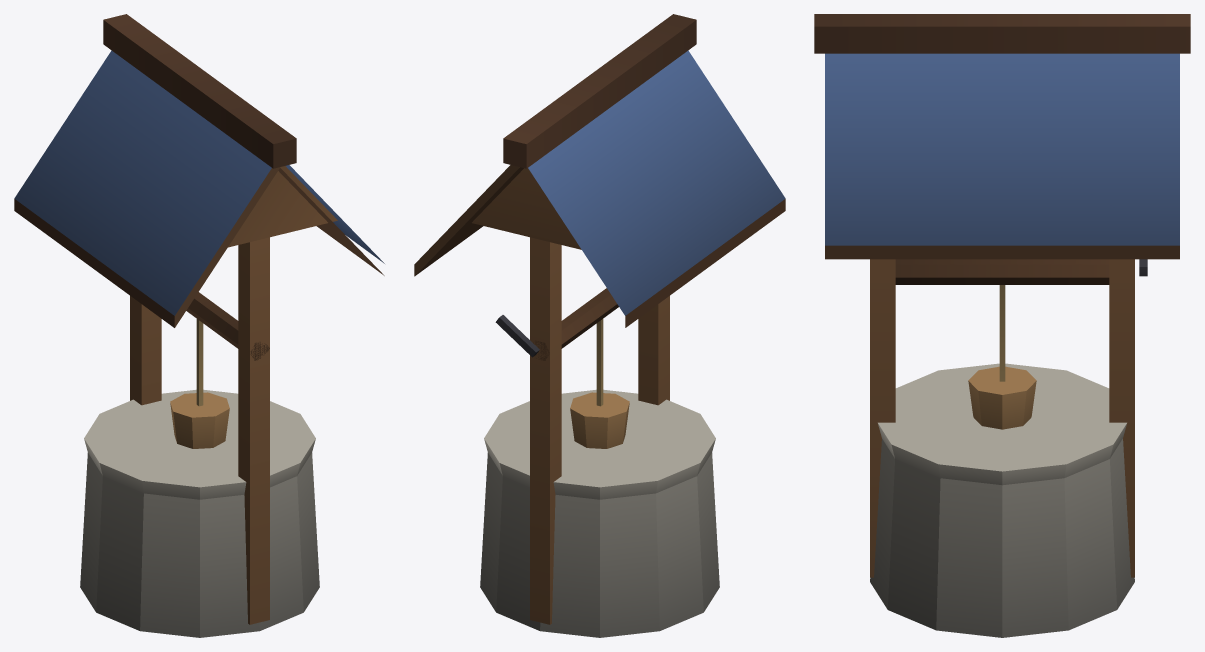
File: b_well.glb
The picture shows the model from 3 angles, left to right: view 1: azimuth 30°, elevation 25°; view 2: azimuth 150°, elevation 25°; view 3: azimuth 270°, elevation 25°; orthographic projection. The views are drawn at different scales.
Parts seen in each view (by area): view 1: stone, roof, wood, cloth; view 2: stone, wood, roof, cloth; view 3: roof, stone, wood, cloth.
Part boxes in pixels (left/top/right/bottom): stone: left=80, top=389, right=319, bottom=637; roof: left=14, top=50, right=384, bottom=315; wood: left=14, top=14, right=384, bottom=624; cloth: left=196, top=319, right=203, bottom=406; stone: left=480, top=389, right=719, bottom=637; wood: left=414, top=14, right=785, bottom=624; roof: left=528, top=50, right=785, bottom=315; cloth: left=596, top=319, right=603, bottom=406; roof: left=825, top=53, right=1179, bottom=245; stone: left=870, top=363, right=1134, bottom=637; wood: left=814, top=14, right=1190, bottom=577; cloth: left=999, top=285, right=1005, bottom=381.
Size of the model in its own units: 1.26 by 2.9 by 1.76.
